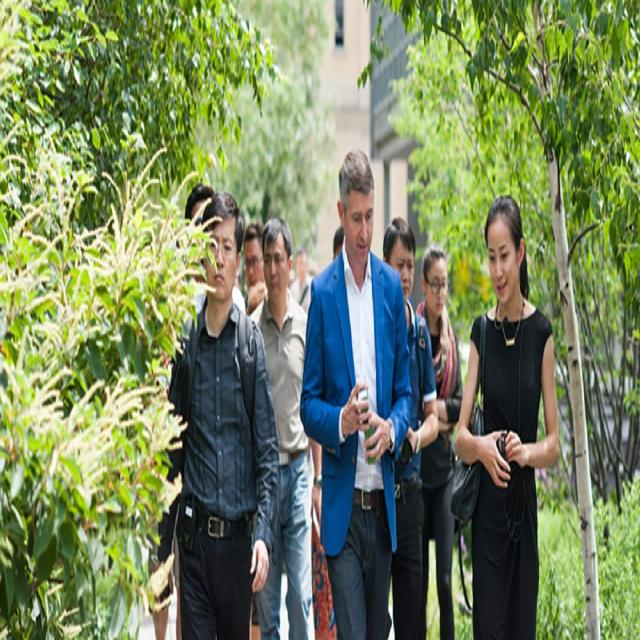body: (145, 186, 282, 638), (295, 144, 414, 639), (449, 190, 562, 638), (248, 214, 323, 640), (381, 214, 440, 640), (82, 348, 153, 638), (414, 243, 463, 640), (182, 183, 247, 329), (286, 219, 345, 281), (242, 219, 268, 318), (290, 245, 314, 312), (234, 265, 247, 303)
